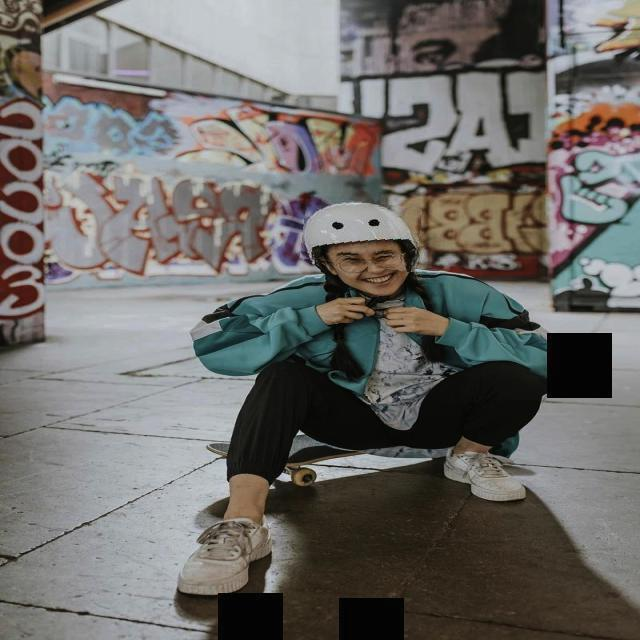helmet: (302, 199, 421, 269)
